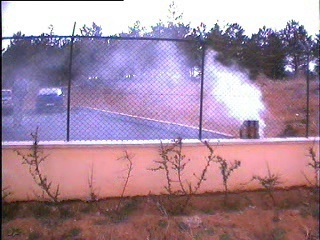smoke: (102, 40, 267, 134)
